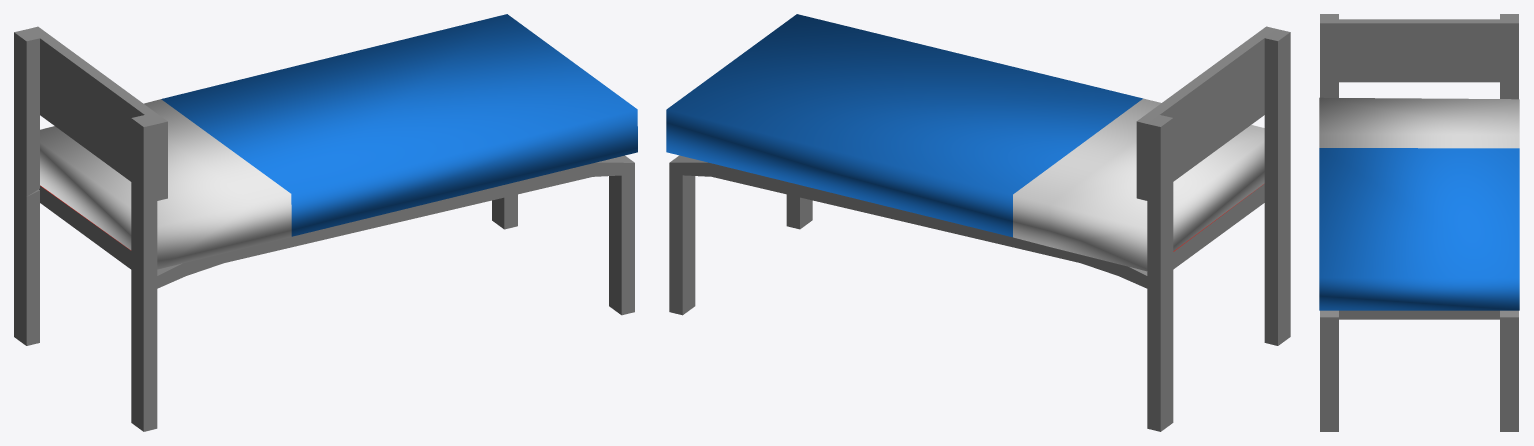
The model's file is Bunk_Bed.fbx.
3 views of the same model, side by side, from view 1: azimuth 30°, elevation 25°; view 2: azimuth 150°, elevation 25°; view 3: azimuth 270°, elevation 25° (orthographic). The views are drawn at different scales.
Parts seen in each view (by area): view 1: Cube.001, Cube.002; view 2: Cube.001, Cube.002; view 3: Cube.001, Cube.002.
Boxes of the visible parts, x1,y1,x2,y2 form: Cube.001: [40, 14, 637, 269]; Cube.002: [14, 26, 634, 431]; Cube.001: [666, 14, 1264, 271]; Cube.002: [669, 26, 1290, 431]; Cube.001: [1319, 97, 1519, 310]; Cube.002: [1320, 14, 1518, 431].
Bounding box in the file's own units: 475 × 280 × 218.
